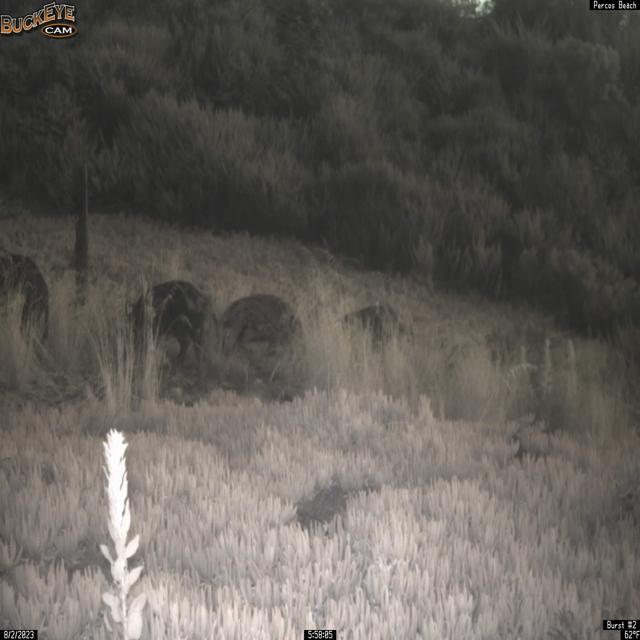pig: (125, 279, 211, 369)
